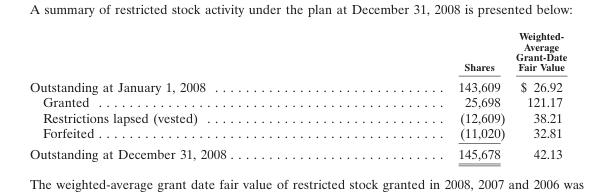table: (28, 29, 566, 161)
table column: (28, 29, 341, 161), (341, 29, 509, 161), (509, 29, 566, 161)
table column header: (28, 29, 566, 75)
table row: (28, 29, 566, 75), (28, 75, 566, 94), (28, 125, 566, 143), (28, 143, 566, 161), (28, 109, 566, 125), (28, 94, 566, 109)
